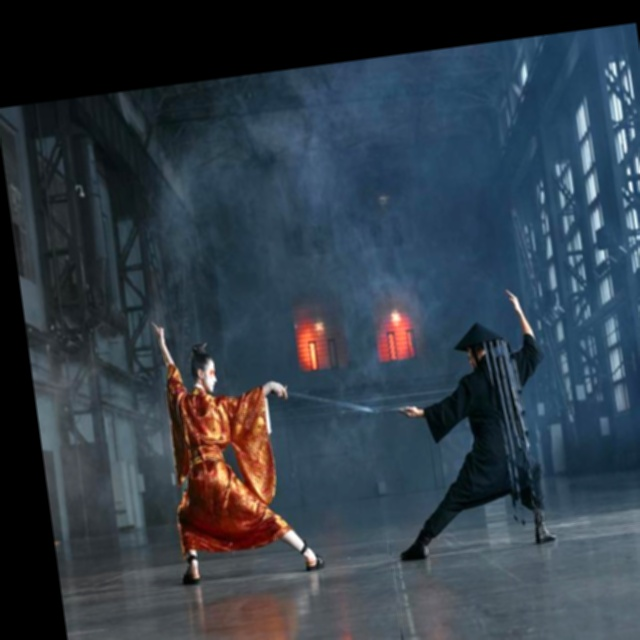Sharp-Object: (273, 358, 381, 443)
